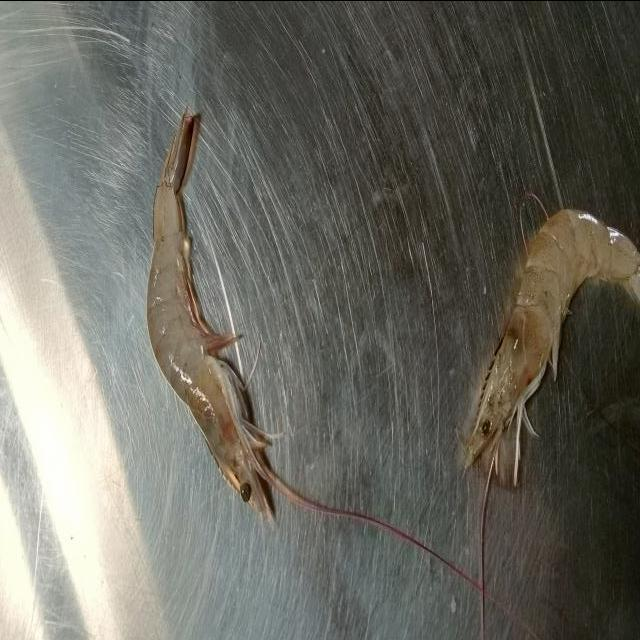shrimp: (147, 106, 270, 518), (461, 207, 640, 474)
